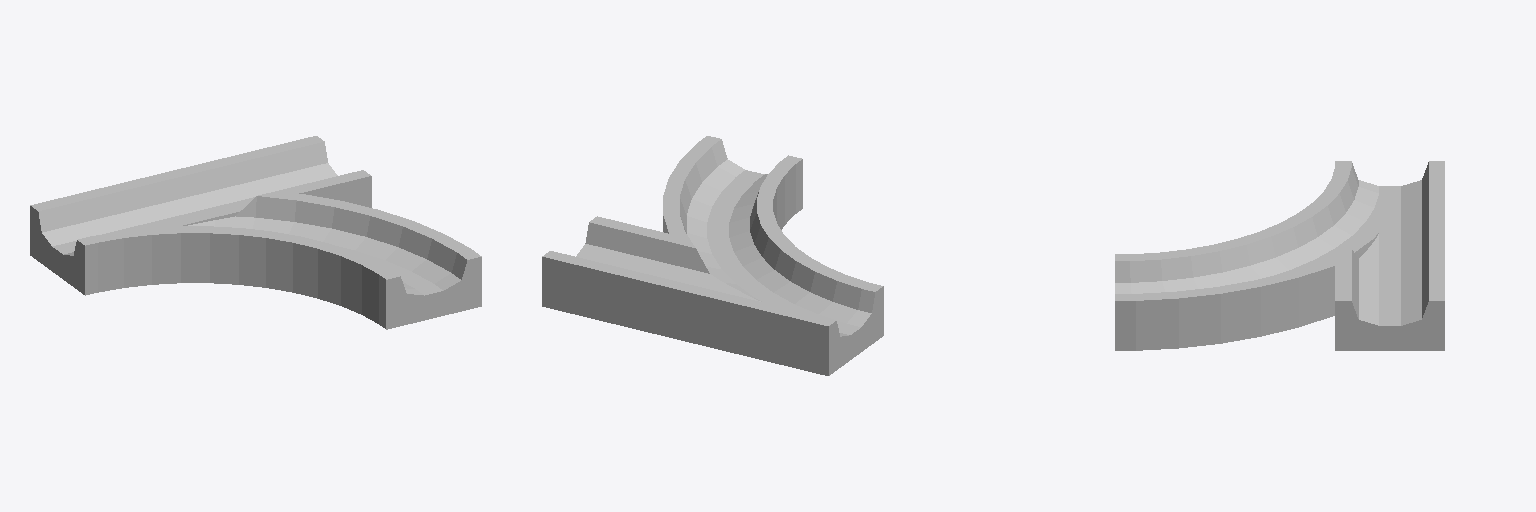
File: split-large-right.obj
The picture shows the model from 3 angles: view 1: azimuth 30°, elevation 25°; view 2: azimuth 150°, elevation 25°; view 3: azimuth 270°, elevation 25°; orthographic projection.
Visible parts, largest first — view 1: split-large-right; view 2: split-large-right; view 3: split-large-right.
Part boxes in pixels (left/top/right/bottom): split-large-right: left=30, top=136, right=481, bottom=329; split-large-right: left=542, top=136, right=883, bottom=375; split-large-right: left=1115, top=161, right=1444, bottom=350.
Size of the model in its own units: 3 by 0.5 by 3.